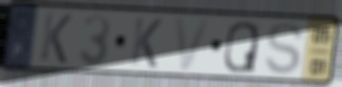3: (76, 10, 114, 70)
K: (38, 10, 75, 66), (128, 15, 165, 70)
Q: (222, 19, 261, 75)
S: (263, 20, 307, 77)
V: (172, 15, 214, 73)
